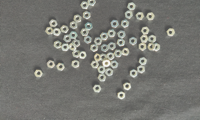nut: (146, 12, 155, 21), (139, 57, 148, 66), (102, 59, 111, 68), (94, 37, 103, 46), (167, 29, 176, 37), (148, 43, 157, 51), (141, 27, 150, 35), (139, 42, 147, 51), (138, 65, 146, 74), (136, 12, 145, 20), (128, 2, 136, 11), (130, 37, 138, 46), (124, 82, 132, 91), (121, 20, 130, 28), (117, 39, 126, 47), (114, 50, 123, 58), (108, 42, 116, 51), (107, 52, 115, 61), (110, 61, 119, 69), (106, 68, 114, 77), (100, 33, 109, 41), (101, 44, 109, 53), (98, 74, 107, 82), (93, 85, 102, 93), (94, 54, 103, 62), (91, 61, 100, 69), (85, 22, 93, 31), (83, 11, 91, 20), (81, 1, 89, 10), (74, 14, 82, 23), (70, 21, 78, 30), (72, 60, 80, 69), (149, 35, 157, 43), (141, 35, 149, 43), (130, 70, 138, 78), (118, 92, 126, 100), (125, 11, 133, 19), (122, 48, 130, 56), (118, 31, 126, 39), (111, 20, 119, 28), (108, 30, 116, 38), (98, 66, 106, 74), (91, 44, 99, 52), (84, 36, 92, 44), (79, 51, 87, 59), (73, 40, 81, 48), (69, 43, 77, 51), (61, 25, 69, 33), (54, 41, 62, 49), (57, 63, 65, 71), (53, 28, 61, 36), (50, 20, 58, 28), (46, 27, 54, 35), (47, 61, 55, 69), (35, 70, 43, 78), (69, 32, 78, 39), (61, 44, 70, 51), (81, 29, 89, 36), (73, 50, 80, 58), (64, 35, 71, 43), (155, 43, 161, 52), (101, 54, 107, 62), (88, 1, 96, 6)
